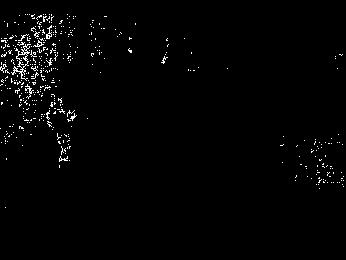person: (46, 99, 76, 162)
